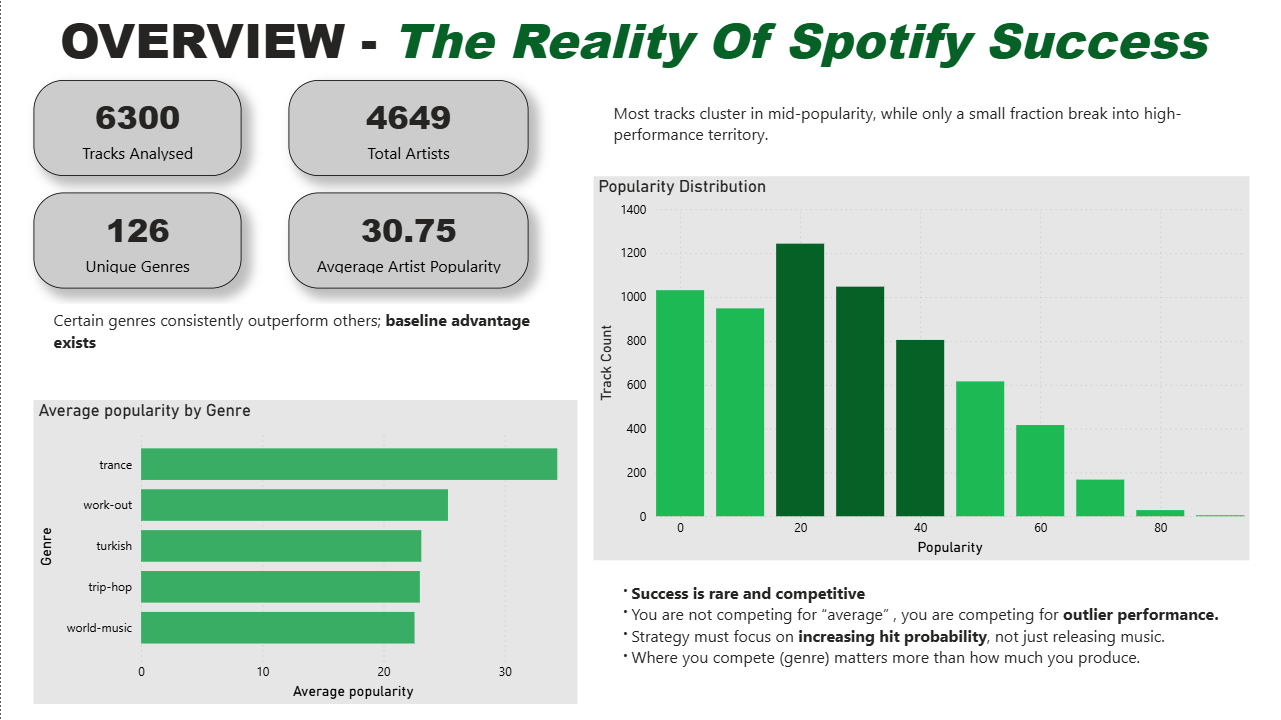

What the dashboard file says about the page in this screenshot:
{"tool":"powerbi","page":{"name":"Overview","canvas":[1280,720],"ordinal":1},"visuals":[{"type":"textbox","box":[16,0,1232,80],"z":0},{"type":"card","fields":{"Values":["spotify_project.Track Count"]},"box":[32,80,208,96],"z":1000},{"type":"columnChart","title":"Popularity Distribution","fields":{"Category":["spotify_project.popularity (bins)"],"Y":["spotify_project.Track Count"]},"box":[592,176,656,384],"z":2000},{"type":"barChart","fields":{"Category":["spotify_project.genre"],"Y":["Avg(spotify_project.popularity)"]},"box":[32,400,544,304],"z":3000},{"type":"textbox","box":[608,576,640,128],"z":4000},{"type":"card","fields":{"Values":["spotify_project.Avg Artist Popularity"]},"box":[288,192,240,96],"z":5000},{"type":"card","fields":{"Values":["Count(spotify_project.genre)"]},"box":[32,192,208,96],"z":6000},{"type":"card","fields":{"Values":["Count(spotify_project.artists)"]},"box":[288,80,240,96],"z":7000},{"type":"textbox","box":[608,96,640,64],"z":8000},{"type":"textbox","box":[48,304,512,64],"z":9000}]}

Visuals, with their boxes in screenshot pixels (x1, y1, x2, y2), scaled from the page's 1280x720 canvas onto the 1281x720 screenshot:
textbox: detection(16, 0, 1249, 80)
card - spotify_project.Track Count: detection(32, 80, 240, 176)
"Popularity Distribution" columnChart: detection(592, 176, 1249, 560)
barChart - spotify_project.genre x Avg(spotify_project.popularity): detection(32, 400, 576, 704)
textbox: detection(608, 576, 1249, 704)
card - spotify_project.Avg Artist Popularity: detection(288, 192, 528, 288)
card - Count(spotify_project.genre): detection(32, 192, 240, 288)
card - Count(spotify_project.artists): detection(288, 80, 528, 176)
textbox: detection(608, 96, 1249, 160)
textbox: detection(48, 304, 560, 368)
